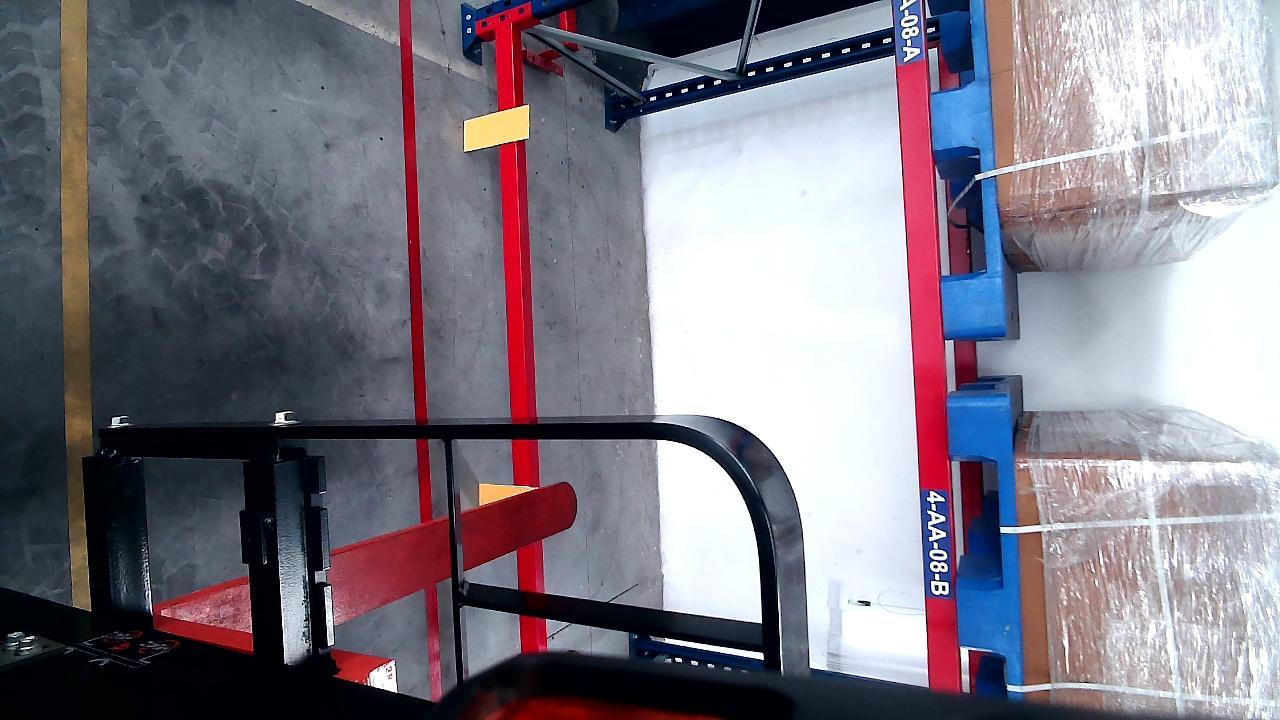red_line: (398, 0, 431, 424)
yellow_line: (57, 0, 98, 620)
